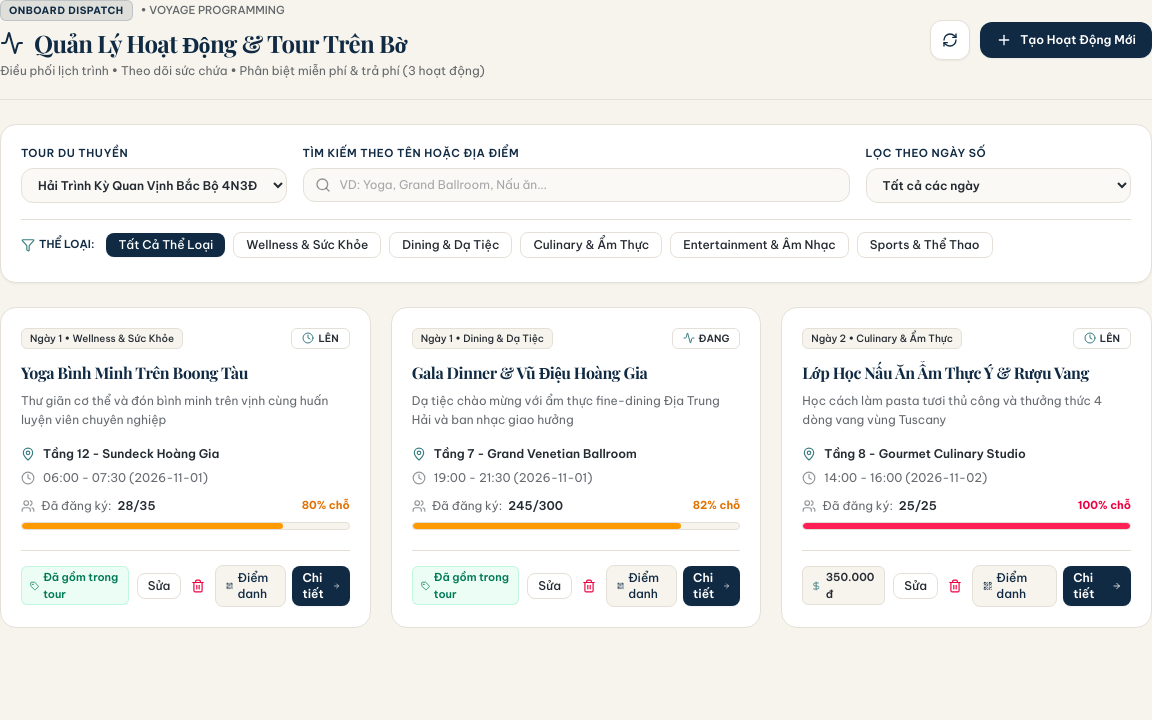
Test: ActivitiesPage Component Tests (KAN-139) › opens ActivityStatusModal when clicking on activity status badge
The width and height of the screenshot is (1152, 720).
Expected: the heading "Yoga Bình Minh Trên Boong Tàu" is shown, x1=21 y1=362 x2=248 y2=382
Click the 1st button titled "Bấm để đổi trạng thái". click: x=321, y=338
box: x1=292 y1=328 x2=350 y2=348
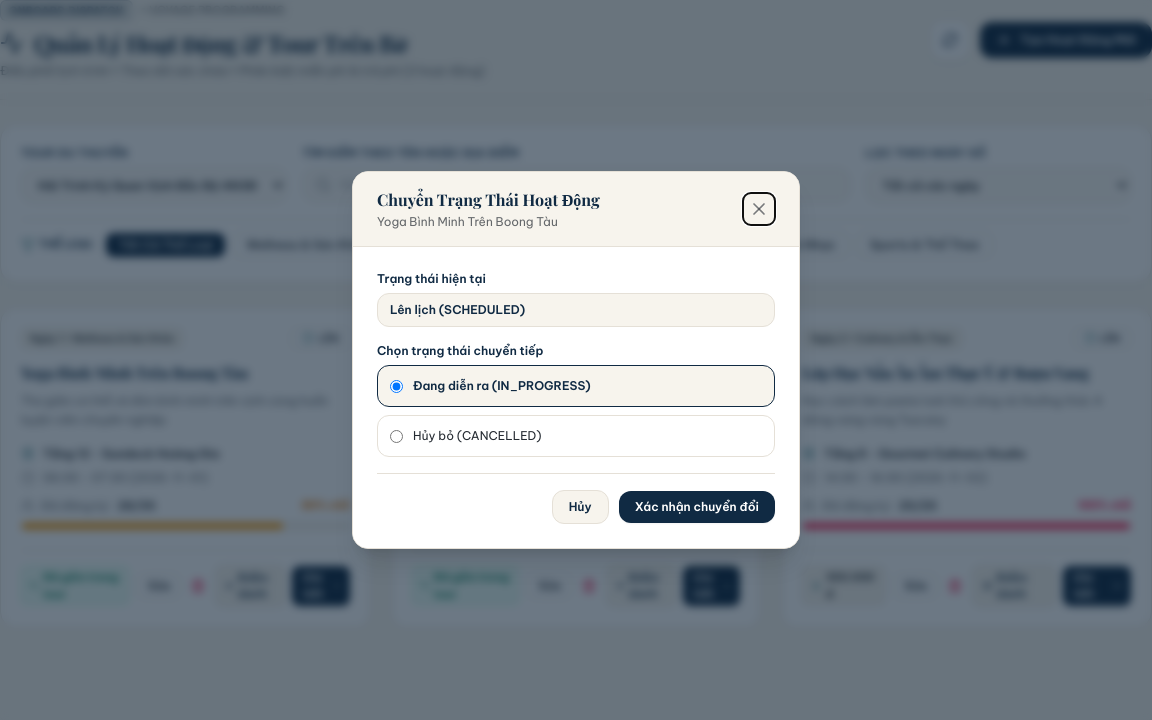
Now the heading "Chuyển Trạng Thái Hoạt Động" is shown, box x1=377 y1=188 x2=600 y2=212
